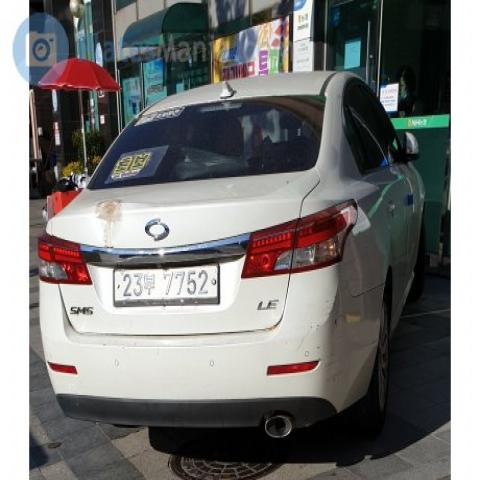LP: (100, 253, 230, 320)
